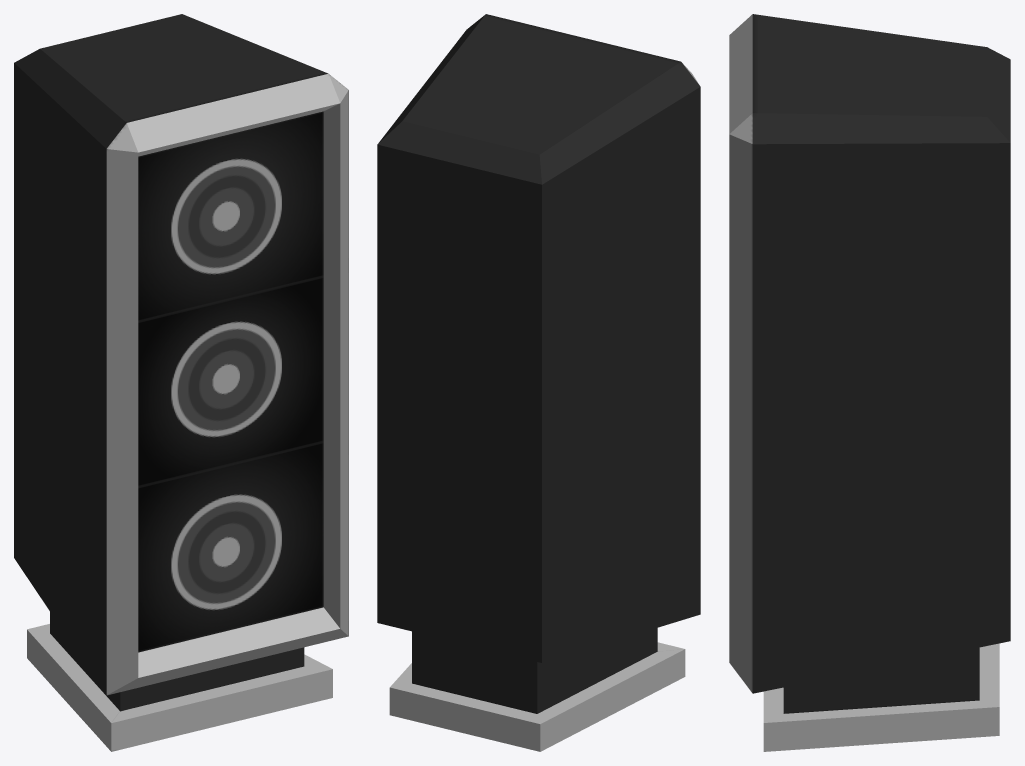
File: Stereo.fbx
The picture shows the model from 3 angles, left to right: view 1: azimuth 30°, elevation 25°; view 2: azimuth 150°, elevation 25°; view 3: azimuth 270°, elevation 25°; orthographic projection. The views are drawn at different scales.
Parts seen in each view (by area): view 1: Som; view 2: Som; view 3: Som.
Boxes of the visible parts, x1,y1,x2,y2 form: Som: (14, 14, 348, 751); Som: (377, 14, 700, 751); Som: (729, 14, 1010, 751).
Size of the model in its own units: 2 by 4.97 by 2.
1 material, 1 textured.
